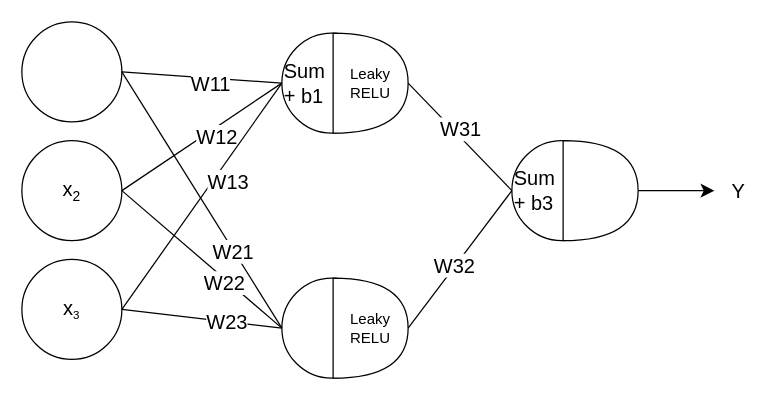
Image size: 778x400. Some labels were removed from this diagram. The shapes that lost their labels are listed below. From the top down, each one's box as (x1, y1, x2, y2) in pixels, then its label:
(21, 21, 122, 122): x 1
(562, 139, 638, 241): tanh
(281, 277, 382, 378): Sum + b2
